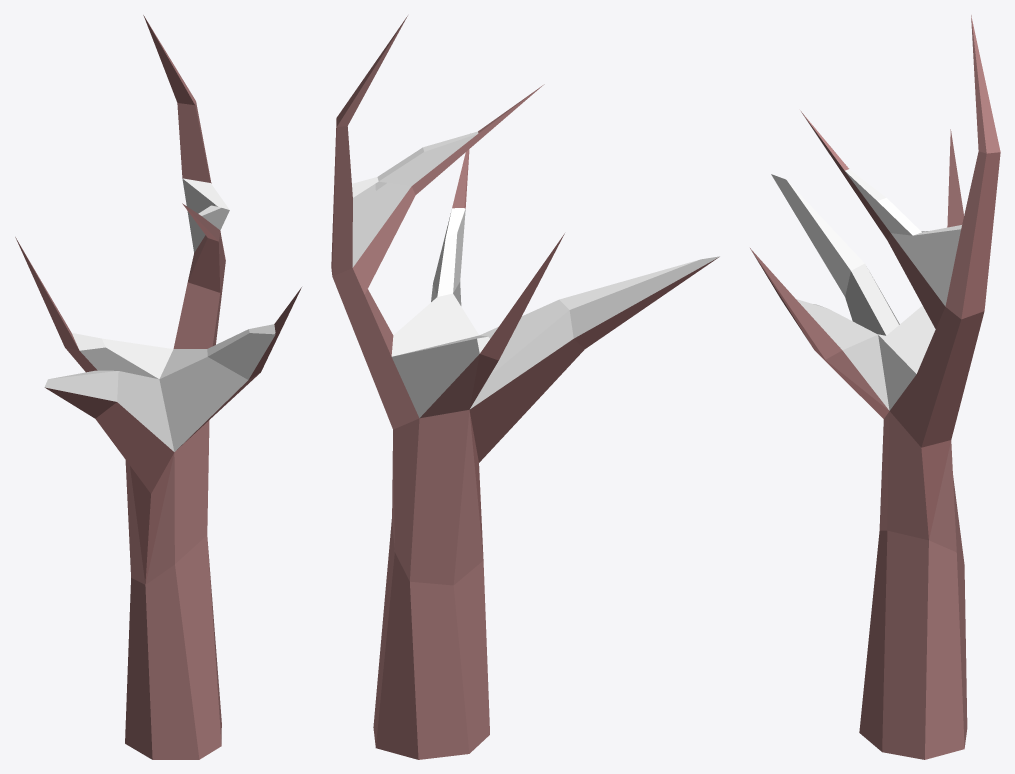
File: TreeWinter6_Alt3.fbx
3 renders of one model, left to right at view 1: azimuth 30°, elevation 25°; view 2: azimuth 150°, elevation 25°; view 3: azimuth 270°, elevation 25°, orthographic. The views are drawn at different scales.
Visible parts, largest first — view 1: TreeWinter6_Alt3; view 2: TreeWinter6_Alt3; view 3: TreeWinter6_Alt3.
Part boxes in pixels (x1,y1,x2,y2): TreeWinter6_Alt3: (15, 15, 301, 759); TreeWinter6_Alt3: (331, 16, 719, 759); TreeWinter6_Alt3: (750, 15, 1000, 759).
Bounding box in the file's own units: 0.8585 × 2.11 × 0.6677.
